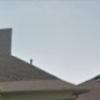chimneys: (0, 24, 12, 64)
